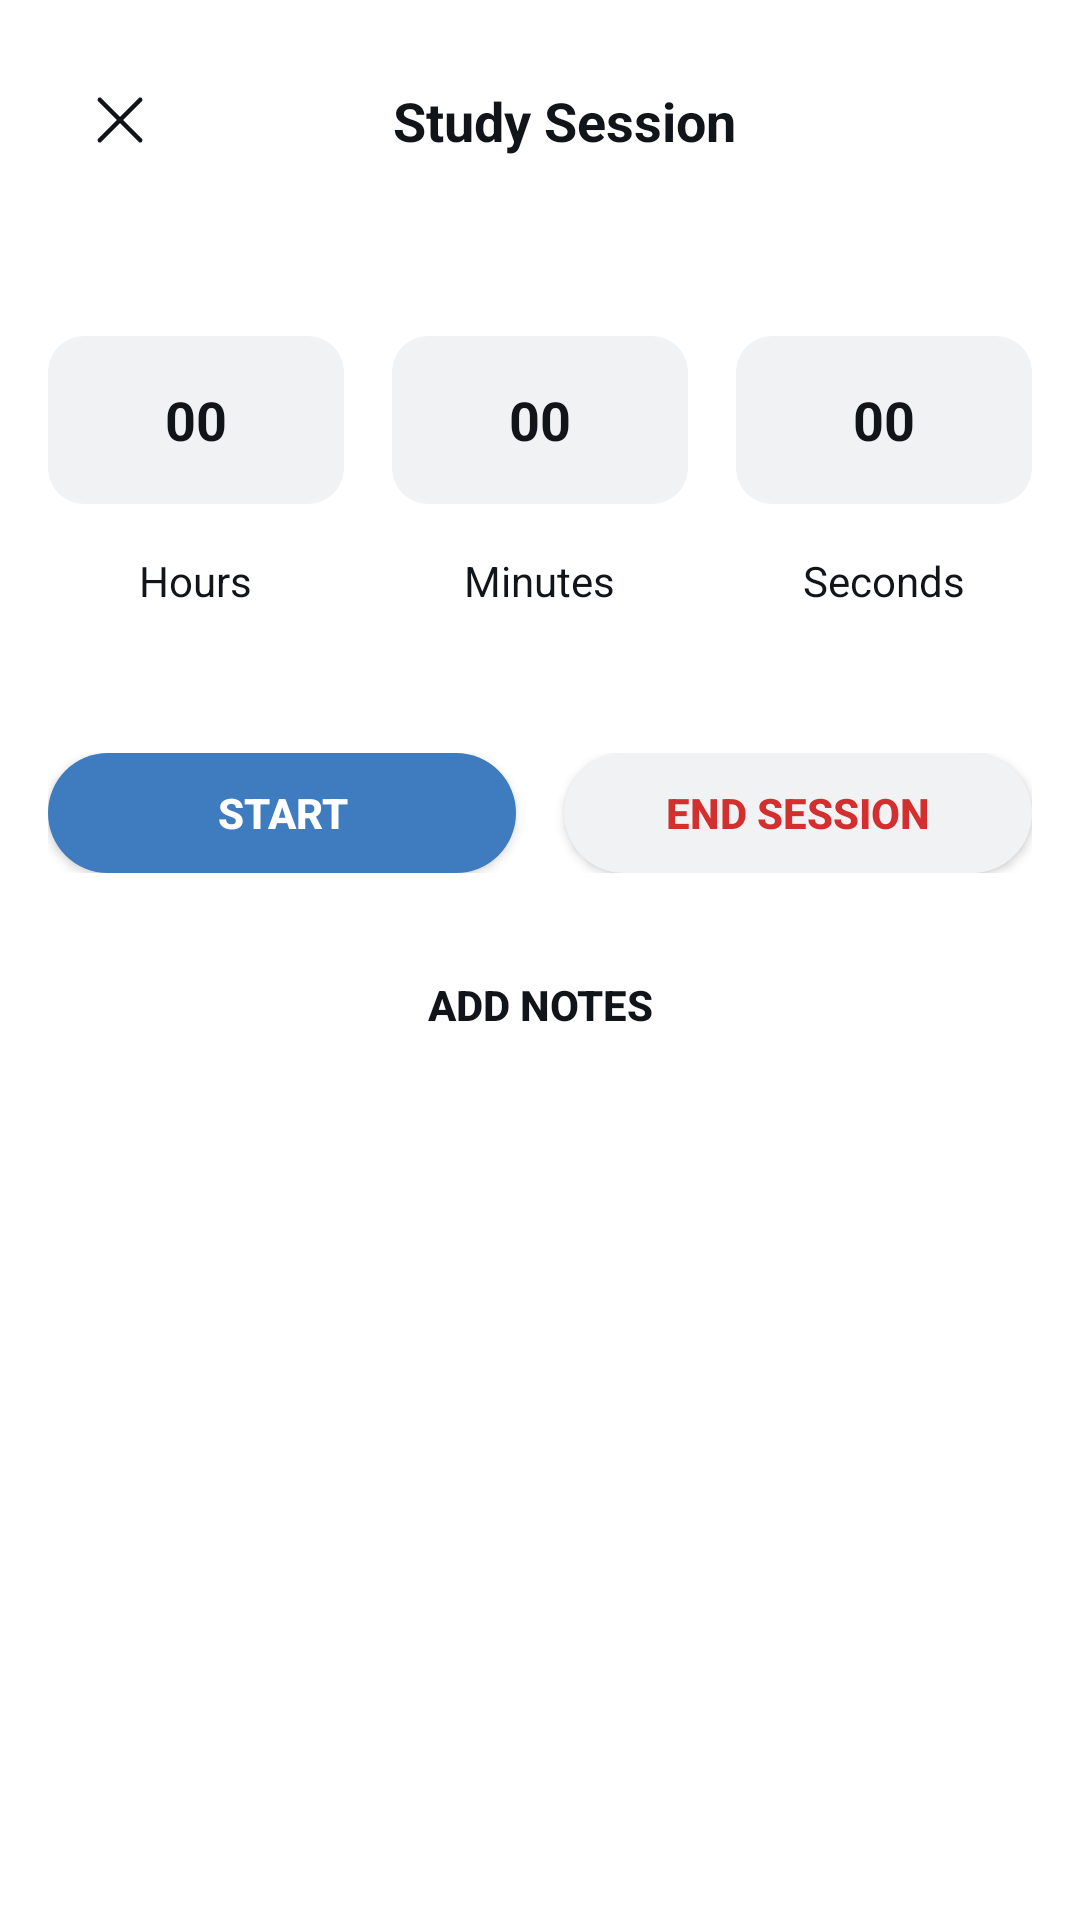

Icon bounding boxes for this 1080 × 1920 phone screenshot, format detection(x1, y1, x2, y2):
Close: detection(97, 97, 143, 143)
